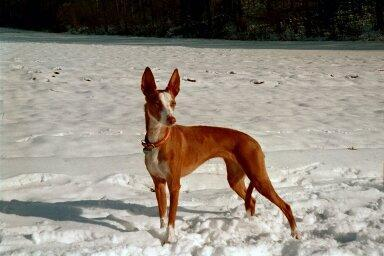Ibizan_hound: (139, 65, 298, 247)
